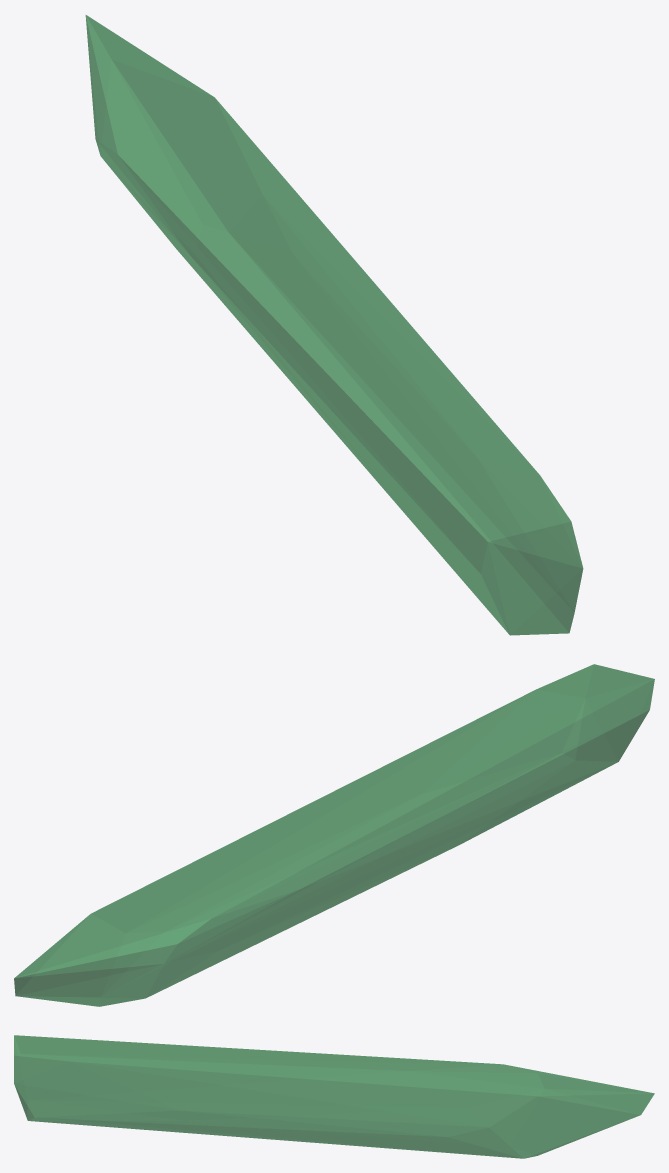
The picture shows the model from 3 angles, top to bottom: view 1: azimuth 30°, elevation 25°; view 2: azimuth 150°, elevation 25°; view 3: azimuth 270°, elevation 25°; orthographic projection. The views are drawn at different scales.
Visible parts, largest first — view 1: Shape_IndexedFaceSet.008_Shape_IndexedFaceSet.5899; view 2: Shape_IndexedFaceSet.008_Shape_IndexedFaceSet.5899; view 3: Shape_IndexedFaceSet.008_Shape_IndexedFaceSet.5899.
Part boxes in pixels (bbox=[...]): Shape_IndexedFaceSet.008_Shape_IndexedFaceSet.5899: bbox=[85, 15, 583, 635]; Shape_IndexedFaceSet.008_Shape_IndexedFaceSet.5899: bbox=[14, 664, 654, 1006]; Shape_IndexedFaceSet.008_Shape_IndexedFaceSet.5899: bbox=[14, 1035, 654, 1158].
Bounding box in the file's own units: 0.0414 × 0.0197 × 0.1832.
